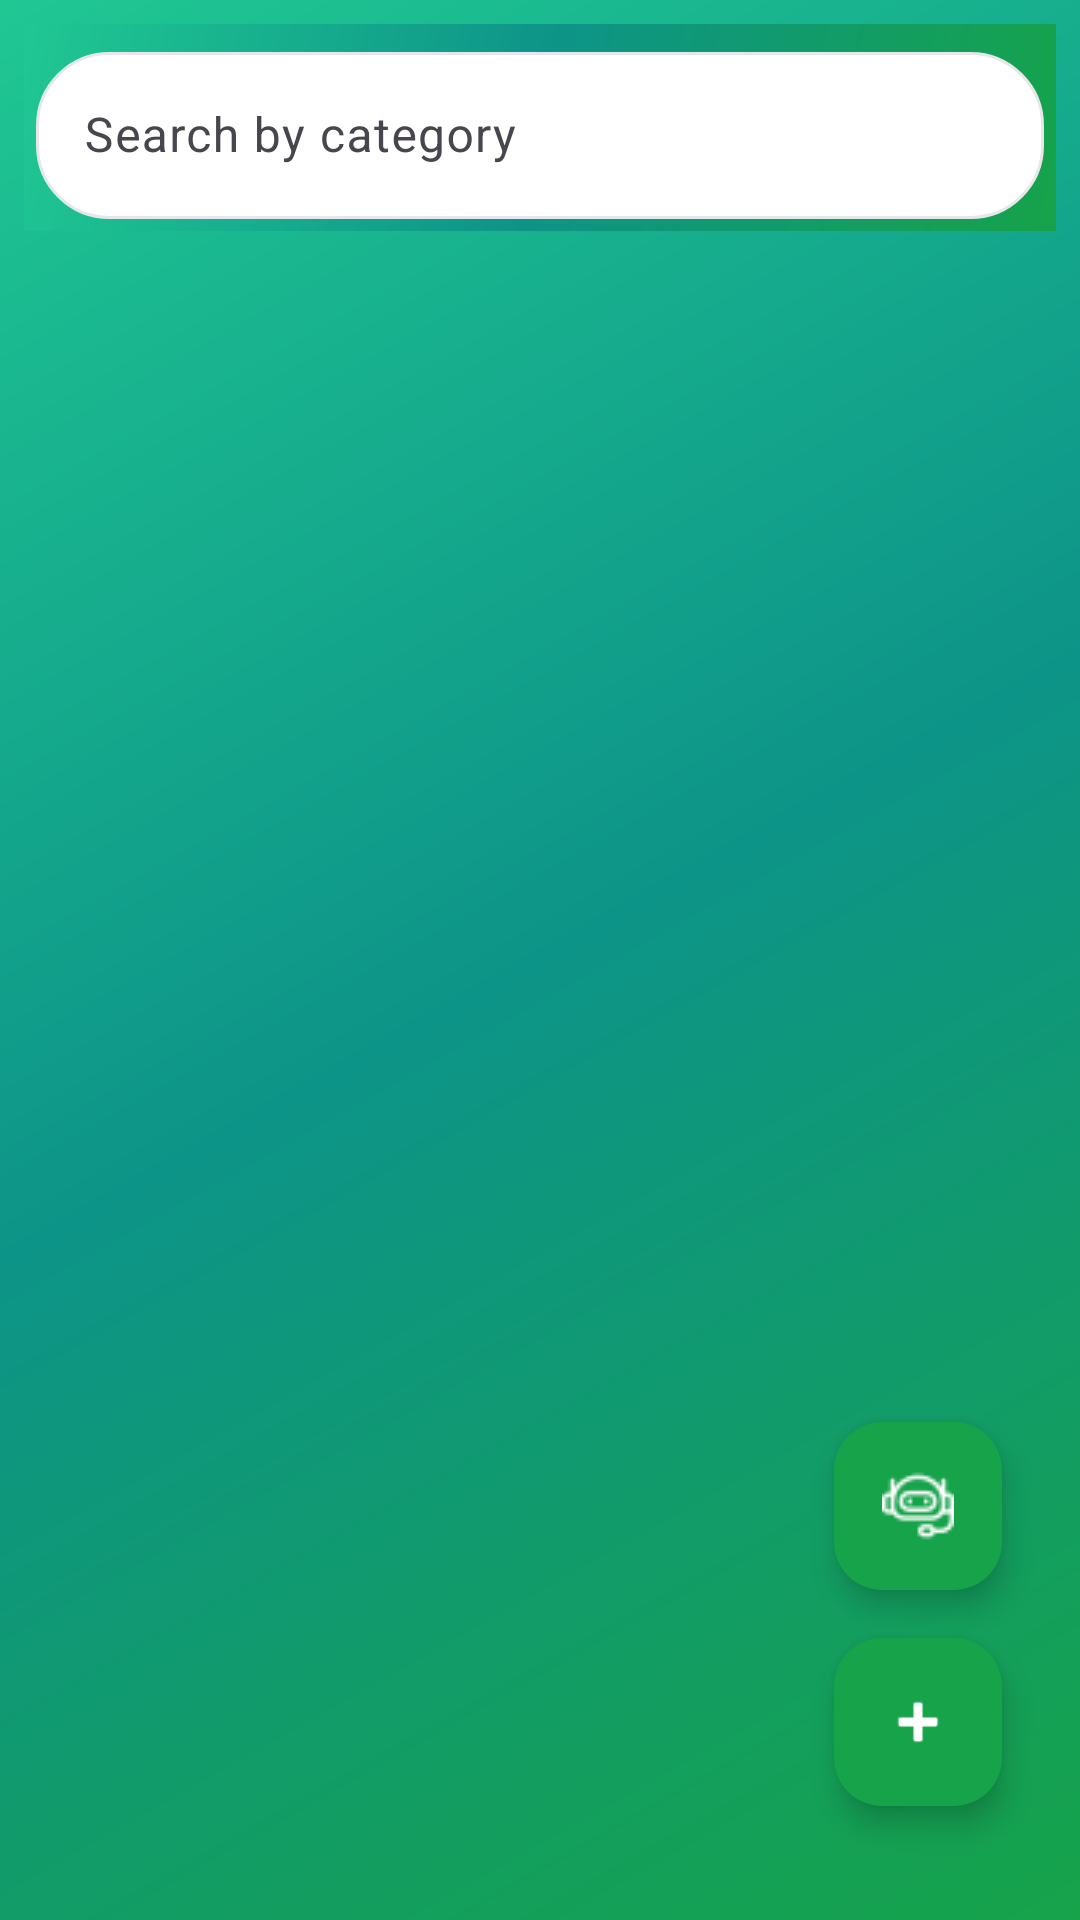

Icon click points for this 1080px x 1920px phone screenshot, format (x=x, y=y):
Add Post: (x=918, y=1722)
Chat Bot: (x=918, y=1506)
